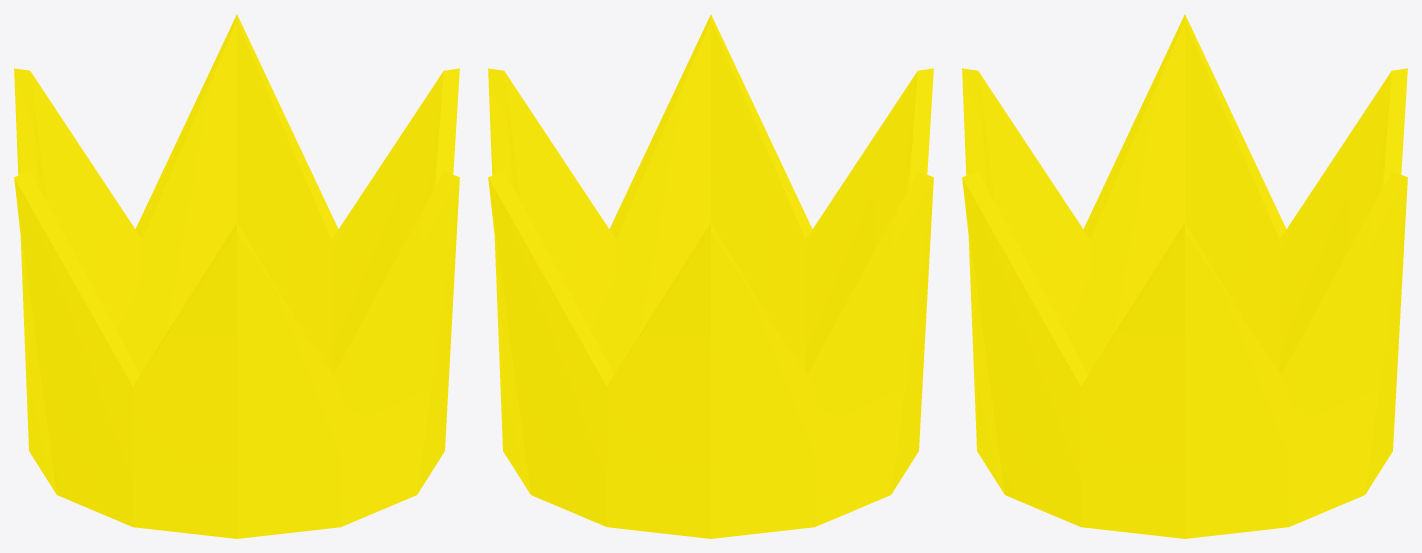
The model's file is crown.glb.
3 renders of one model, left to right at view 1: azimuth 30°, elevation 25°; view 2: azimuth 150°, elevation 25°; view 3: azimuth 270°, elevation 25°, orthographic.
Parts seen in each view (by area): view 1: Crown; view 2: Crown; view 3: Crown.
Part boxes in pixels (<box>): Crown: <box>14,14,459,538</box>; Crown: <box>488,14,933,538</box>; Crown: <box>962,14,1407,538</box>.
Size of the model in its own units: 2.47 by 1.75 by 2.14.
